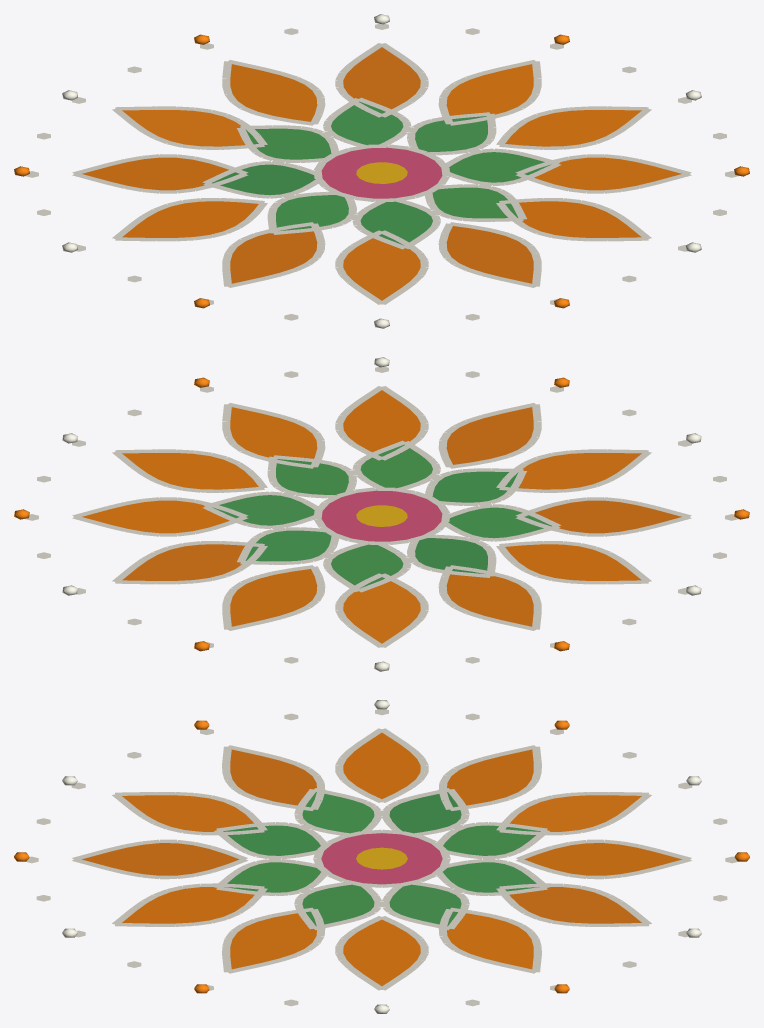
Rendered from PRP_Kolam_Large_A.glb.
3 views of the same model, one above another, from view 1: azimuth 30°, elevation 25°; view 2: azimuth 150°, elevation 25°; view 3: azimuth 270°, elevation 25° (orthographic).
Parts seen in each view (by area): view 1: PRP_Kolam_Large_A_Mesh; view 2: PRP_Kolam_Large_A_Mesh; view 3: PRP_Kolam_Large_A_Mesh.
Part boxes in pixels (<box>): PRP_Kolam_Large_A_Mesh: <box>14,14,749,328</box>; PRP_Kolam_Large_A_Mesh: <box>14,357,749,671</box>; PRP_Kolam_Large_A_Mesh: <box>14,700,749,1013</box>.
Size of the model in its own units: 4.09 by 0.05 by 4.09.
